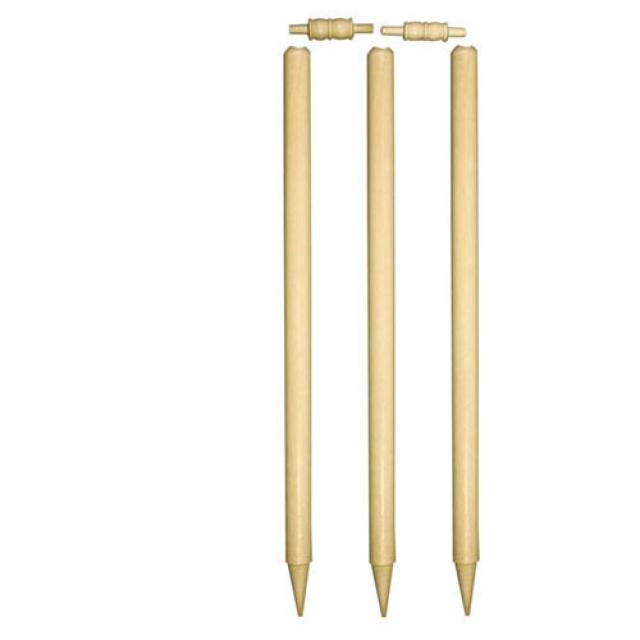stump: (279, 8, 478, 612)
